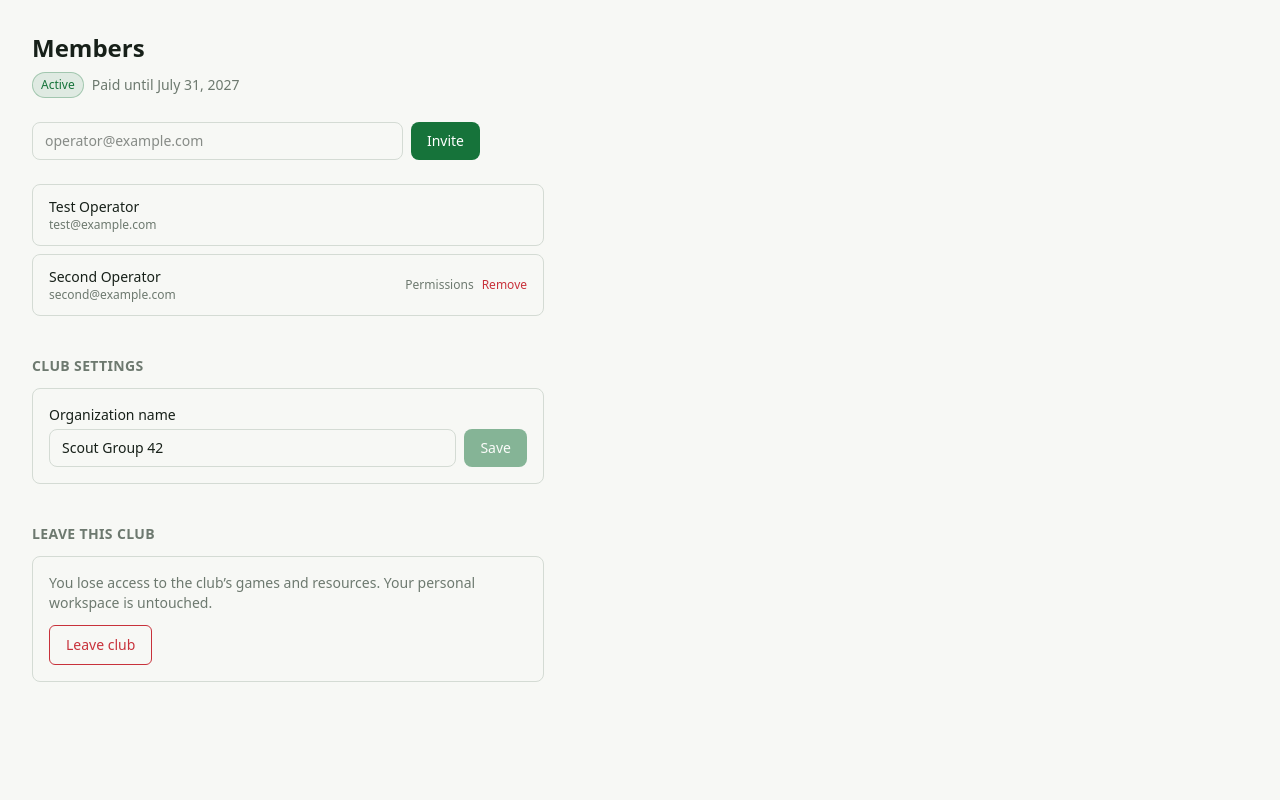
Leaving a club › reports a refused departure without leaving the page
Click the button with test id "club-leave-btn". click: (101, 645)
box: [49, 625, 152, 665]
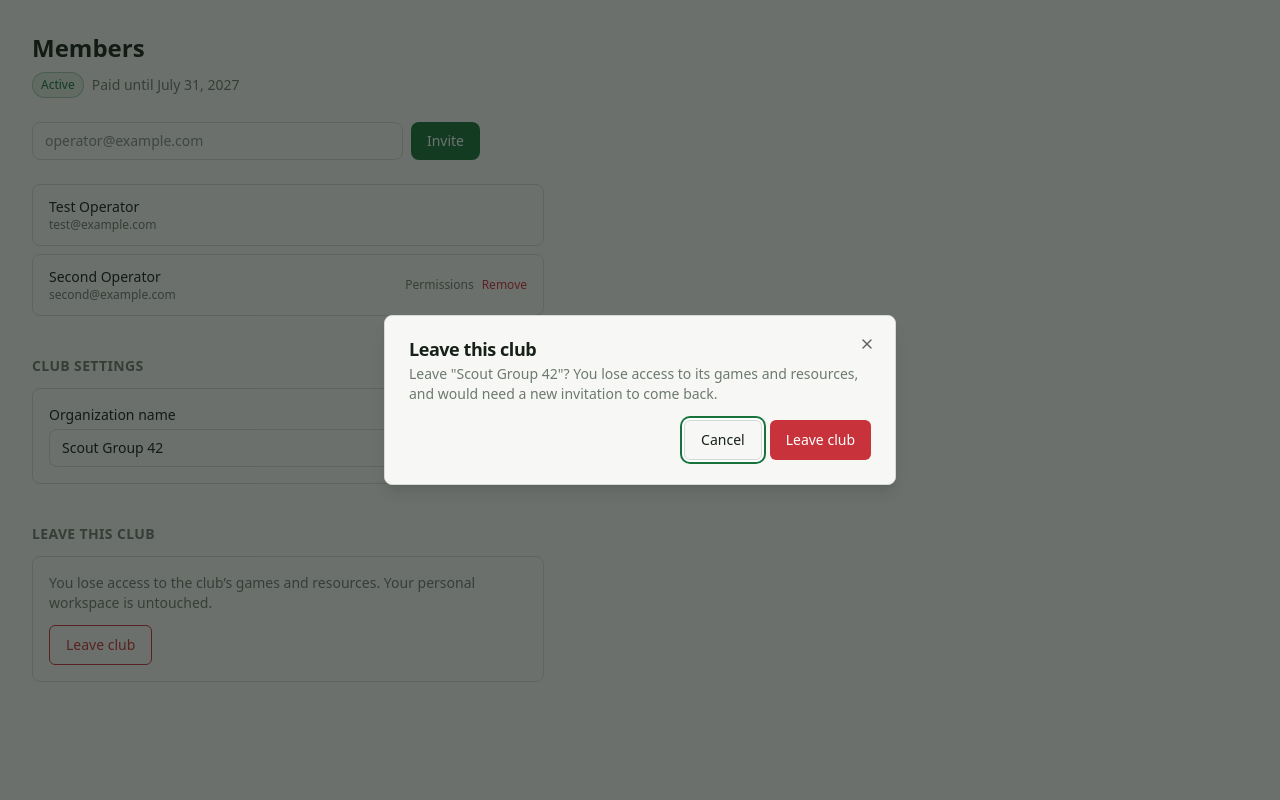
Click the button with test id "confirm-action-btn". click: (820, 440)
box: [770, 420, 871, 460]
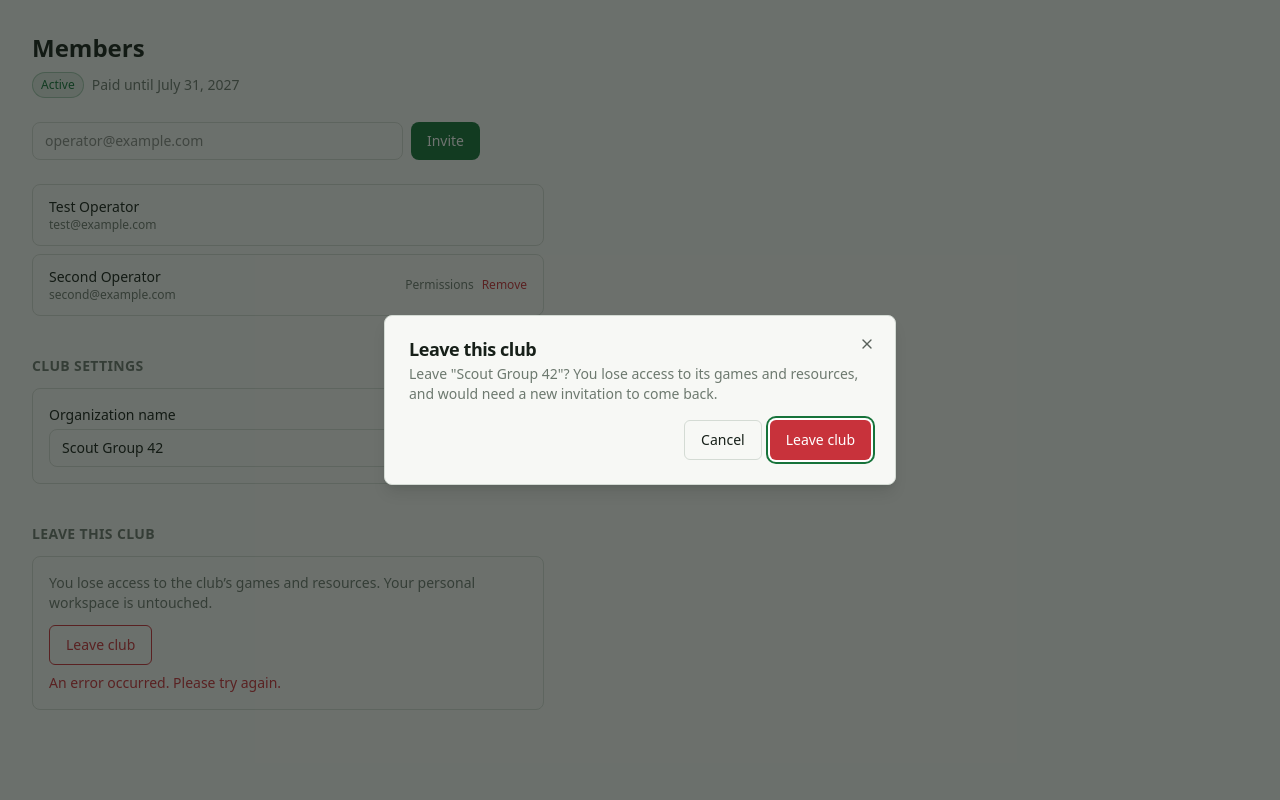
Expected: the message "An error occurred. Please try again." is shown, [49, 673, 281, 692]
